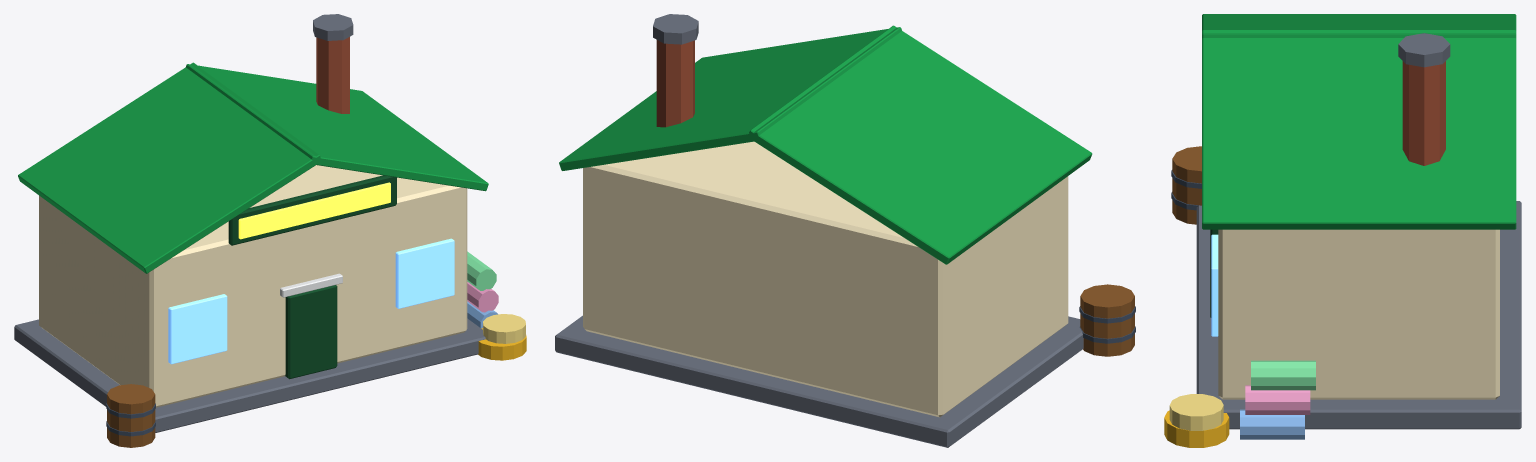
Rendered from hall.glb.
The picture shows the model from 3 angles, left to right: view 1: azimuth 30°, elevation 25°; view 2: azimuth 150°, elevation 25°; view 3: azimuth 270°, elevation 25°; orthographic projection. The views are drawn at different scales.
Parts seen in each view (by area): view 1: g_m_fff1c9, g_m_16a34a, g_m_6b7280, g_m_93c5fd_e, g_m_14532d, g_m_fde047_e, g_m_14532d.001, g_m_8a5a2b, g_m_a5543a, g_m_fde68a, g_m_fbbf24, g_m_86efac (+3 smaller); view 2: g_m_fff1c9, g_m_16a34a, g_m_6b7280, g_m_8a5a2b, g_m_a5543a, g_m_475569; view 3: g_m_16a34a, g_m_fff1c9, g_m_6b7280, g_m_a5543a, g_m_86efac, g_m_8a5a2b, g_m_fde68a, g_m_f9a8d4, g_m_93c5fd, g_m_fbbf24, g_m_93c5fd_e, g_m_475569.
Boxes of the visible parts, x1,y1,x2,y2 form: g_m_fff1c9: [39, 165, 467, 407]; g_m_16a34a: [18, 62, 488, 273]; g_m_6b7280: [14, 14, 485, 432]; g_m_93c5fd_e: [168, 238, 454, 364]; g_m_14532d: [285, 285, 337, 379]; g_m_fde047_e: [238, 182, 390, 239]; g_m_14532d.001: [228, 175, 396, 245]; g_m_8a5a2b: [107, 384, 155, 447]; g_m_a5543a: [316, 37, 349, 113]; g_m_fde68a: [483, 314, 525, 343]; g_m_fbbf24: [478, 328, 526, 360]; g_m_86efac: [467, 251, 496, 290]; g_m_fff1c9: [583, 141, 1068, 417]; g_m_16a34a: [559, 25, 1092, 264]; g_m_6b7280: [555, 14, 1083, 447]; g_m_8a5a2b: [1080, 284, 1134, 356]; g_m_a5543a: [656, 40, 694, 127]; g_m_475569: [1079, 306, 1135, 343]; g_m_16a34a: [1202, 14, 1516, 229]; g_m_fff1c9: [1218, 229, 1499, 399]; g_m_6b7280: [1196, 33, 1521, 429]; g_m_a5543a: [1402, 61, 1445, 165]; g_m_86efac: [1251, 360, 1315, 390]; g_m_8a5a2b: [1172, 146, 1201, 224]; g_m_fde68a: [1169, 394, 1223, 430]; g_m_f9a8d4: [1245, 385, 1310, 414]; g_m_93c5fd: [1240, 409, 1304, 439]; g_m_fbbf24: [1164, 410, 1229, 447]; g_m_93c5fd_e: [1211, 234, 1218, 336]; g_m_475569: [1171, 170, 1201, 210].
Size of the model in its own units: 10.86 by 7.03 by 6.6.
